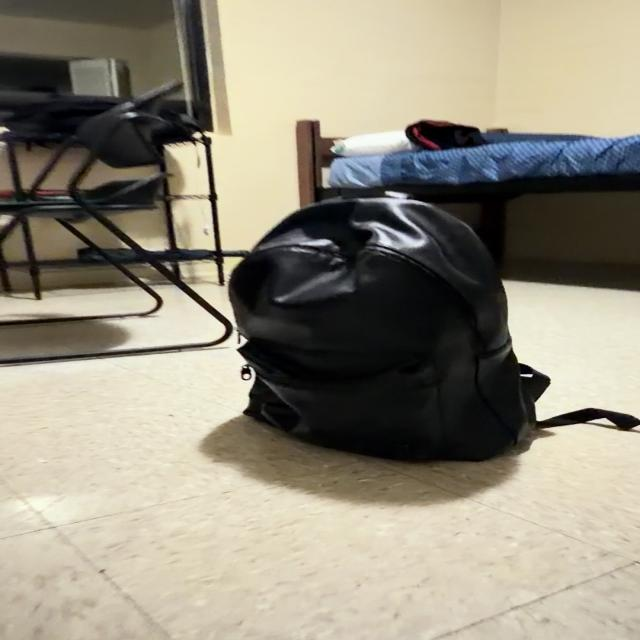backpack: (230, 198, 549, 460), (547, 410, 639, 428), (244, 369, 250, 377)
